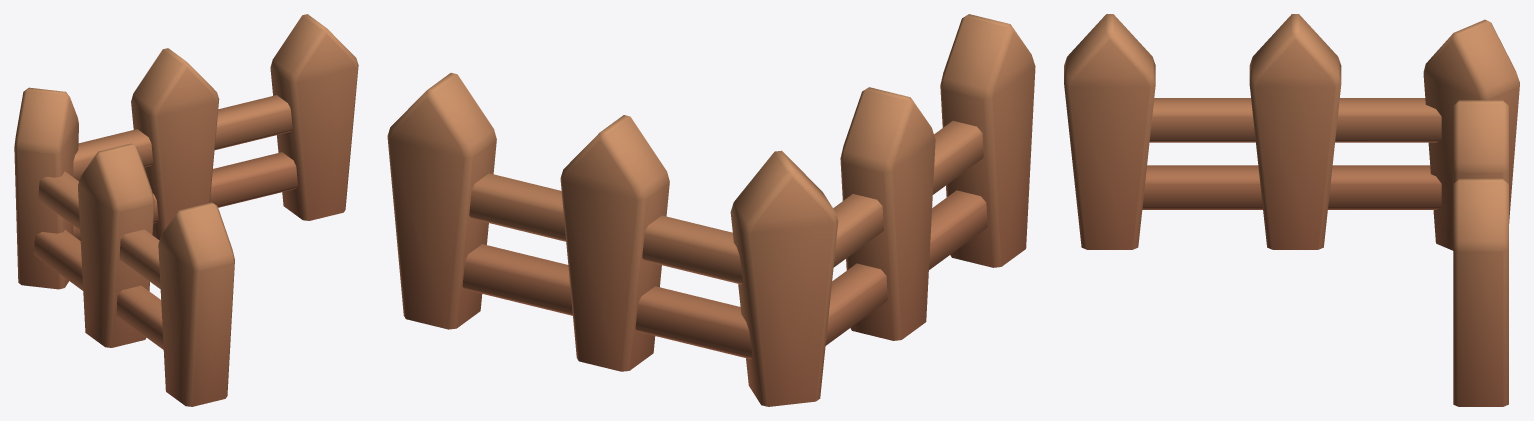
File: Fence Corner.glb
The picture shows the model from 3 angles, left to right: view 1: azimuth 30°, elevation 25°; view 2: azimuth 150°, elevation 25°; view 3: azimuth 270°, elevation 25°; orthographic projection. The views are drawn at different scales.
Visible parts, largest first — view 1: fence_corner; view 2: fence_corner; view 3: fence_corner.
Boxes of the visible parts, left/top/right/bottom form: fence_corner: left=14, top=14, right=358, bottom=406; fence_corner: left=387, top=14, right=1035, bottom=406; fence_corner: left=1064, top=14, right=1519, bottom=406.
Bounding box in the file's own units: 2.46 × 1.28 × 2.46.
Materials: 1 (1 with a texture image).
